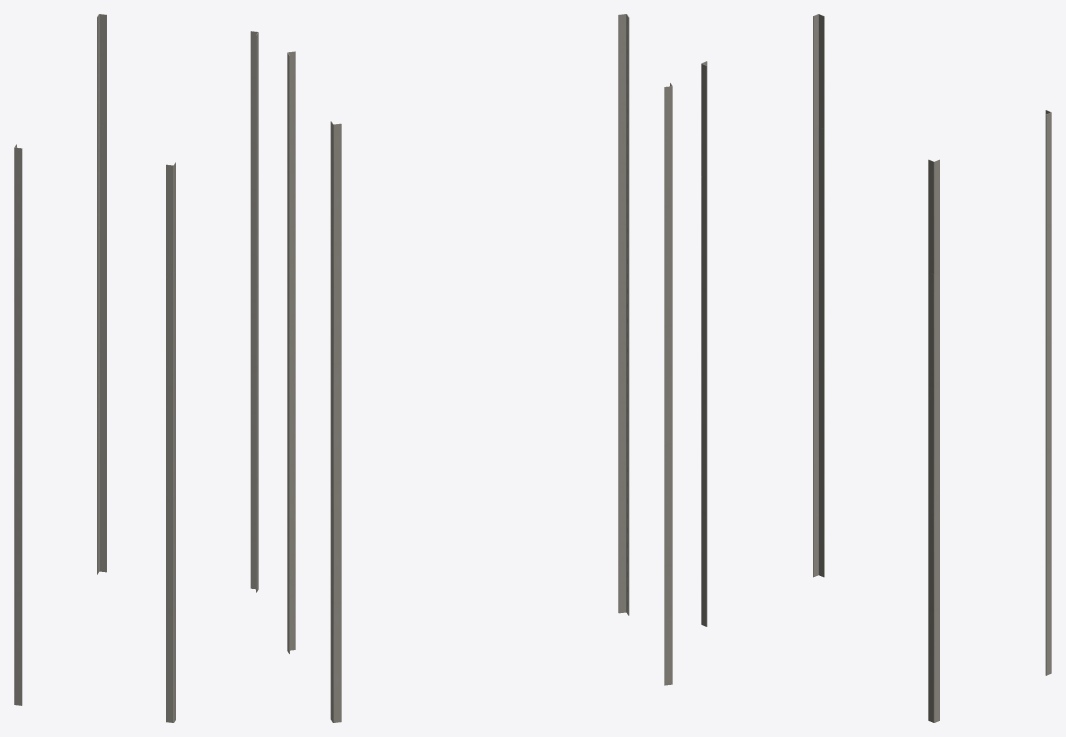
The model's file is shelf_0301_t50_h1500_w800.glb.
The picture shows the model from 3 angles, left to right: view 1: azimuth 30°, elevation 25°; view 2: azimuth 150°, elevation 25°; view 3: azimuth 270°, elevation 25°; orthographic projection. The views are drawn at different scales.
Parts seen in each view (by area): view 1: shelf_0301_t50_h1500_w800; view 2: shelf_0301_t50_h1500_w800; view 3: shelf_0301_t50_h1500_w800.
Boxes of the visible parts, box(x1,y1,x2,y2) form: shelf_0301_t50_h1500_w800: box(14, 14, 258, 722); shelf_0301_t50_h1500_w800: box(287, 14, 672, 722); shelf_0301_t50_h1500_w800: box(701, 14, 1051, 722).
Bounding box in the file's own units: 0.8487 × 1.5 × 0.8487.
1 material, 1 textured.
